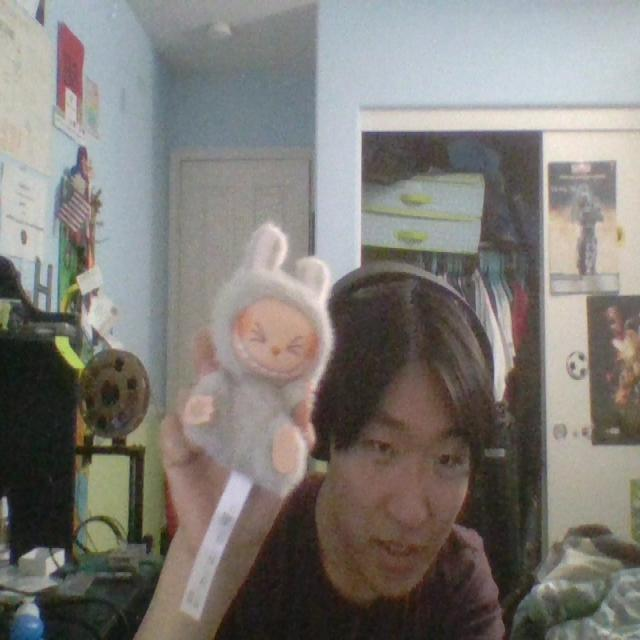labubu: (185, 221, 333, 496)
